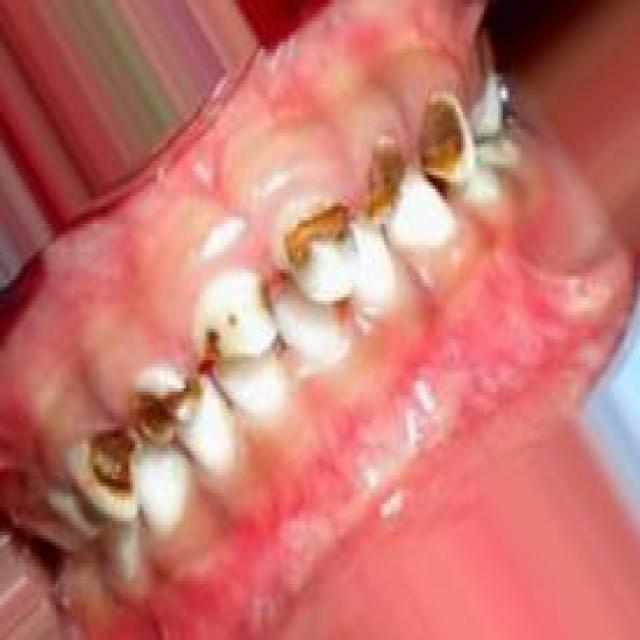caries: (271, 184, 361, 310), (66, 417, 140, 528), (129, 364, 205, 467), (413, 86, 485, 190), (348, 127, 412, 231), (194, 304, 244, 374)
